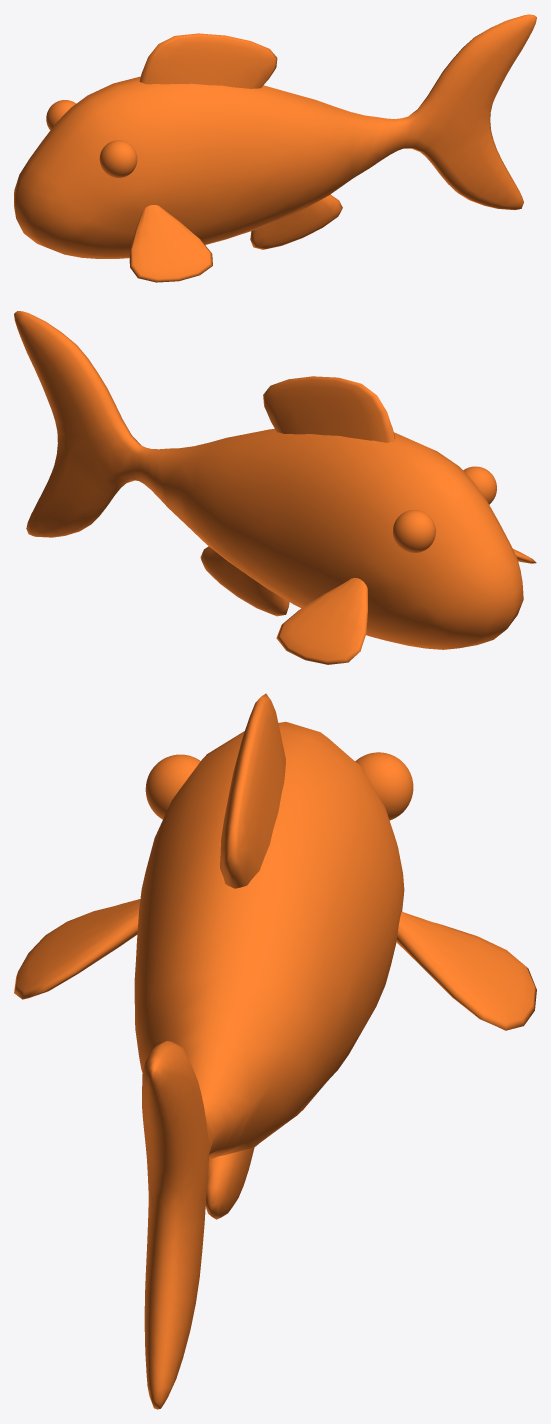
File: old_poisson2.glb
3 views of the same model, one above another, from view 1: azimuth 30°, elevation 25°; view 2: azimuth 150°, elevation 25°; view 3: azimuth 270°, elevation 25° (orthographic). The views are drawn at different scales.
Visible parts, largest first — view 1: mesh_id27, mesh_id53, mesh_id59; view 2: mesh_id27, mesh_id59, mesh_id53; view 3: mesh_id27, mesh_id59, mesh_id53.
Part boxes in pixels (<box>): mesh_id27: <box>14,14,536,282</box>; mesh_id53: <box>99,140,137,177</box>; mesh_id59: <box>46,100,75,130</box>; mesh_id27: <box>14,311,536,664</box>; mesh_id59: <box>393,510,435,552</box>; mesh_id53: <box>463,466,496,504</box>; mesh_id27: <box>14,693,536,1409</box>; mesh_id59: <box>355,752,413,820</box>; mesh_id53: <box>145,754,200,819</box>.
Size of the model in its own units: 0.4339 by 0.1993 by 0.2215.
Materials: 3 (3 with a texture image).
